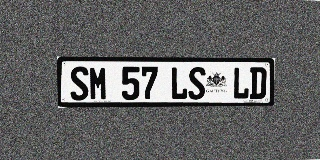5: (122, 67, 140, 100)
7: (140, 67, 158, 100)
D: (249, 67, 267, 99)
L: (170, 67, 188, 100), (232, 67, 250, 99)
M: (89, 66, 108, 100)
S: (70, 66, 89, 101), (188, 67, 206, 100)
